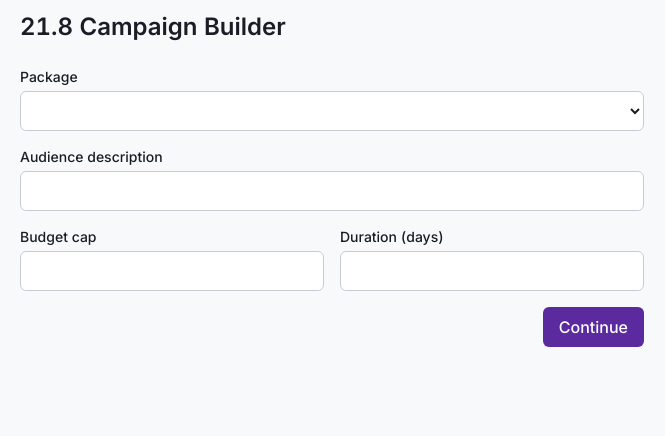
it: CampaignBuilder › blocks submission and shows validation errors when required fields are missing
expect the dropdown labelled "Package" is shown: met, box [20, 91, 644, 131]
Click the button "Continue" at (593, 327), box [543, 307, 644, 347]
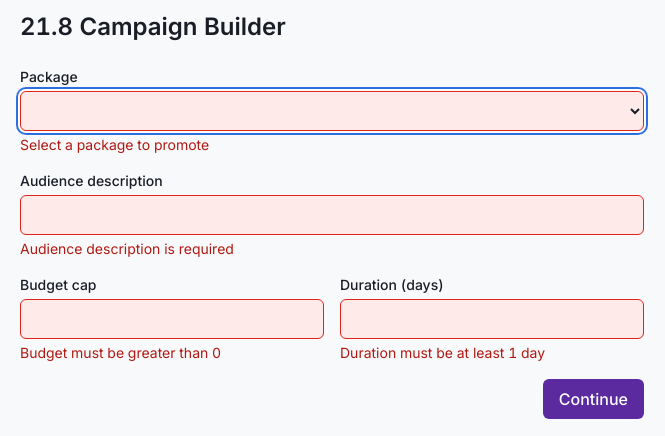
expect the text "Select a package to promote" is shown: met, box [20, 136, 209, 153]
expect the text "Audience description is required" is shown: met, box [20, 240, 234, 257]
